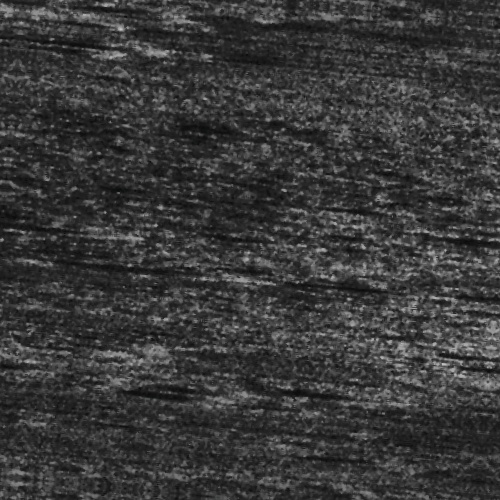object: (47, 239, 172, 252), (57, 53, 172, 62), (349, 381, 454, 390), (187, 273, 292, 282), (186, 394, 249, 403), (0, 277, 54, 282)
shadow: (0, 239, 109, 252), (419, 210, 500, 223), (132, 273, 239, 282), (23, 53, 114, 62), (315, 381, 402, 390), (134, 394, 217, 403), (0, 277, 22, 282)
